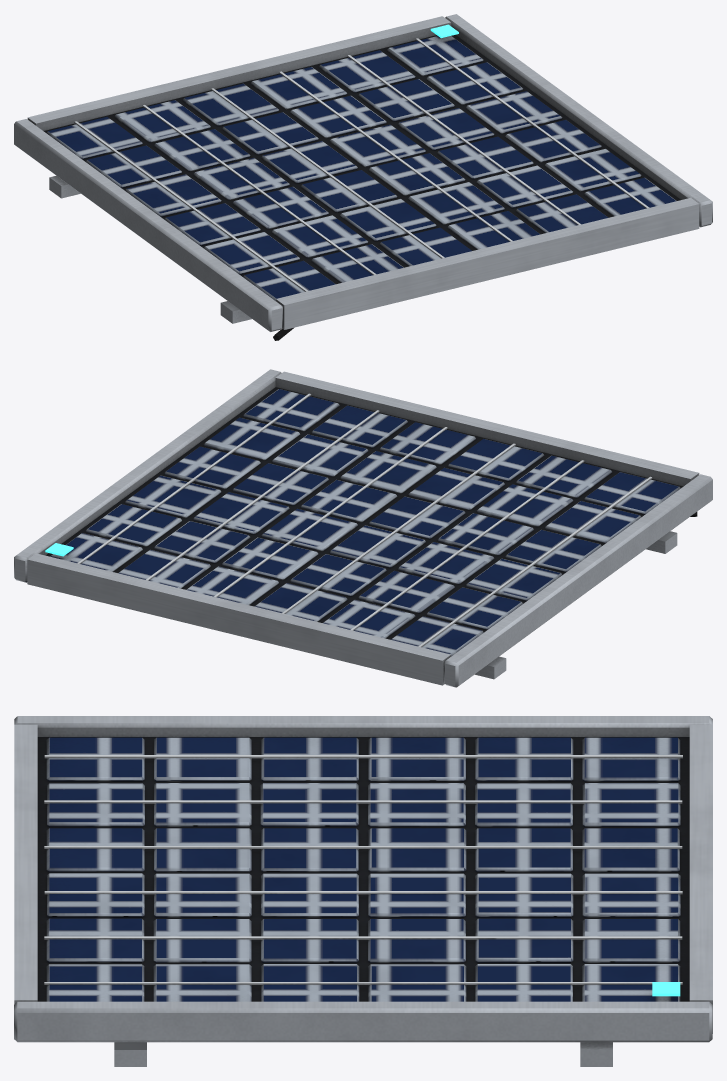
The model's file is panel_solar_techo.fbx.
3 renders of one model, top to bottom at view 1: azimuth 30°, elevation 25°; view 2: azimuth 150°, elevation 25°; view 3: azimuth 270°, elevation 25°, orthographic. The views are drawn at different scales.
Parts seen in each view (by area): view 1: panel_solar_techo; view 2: panel_solar_techo; view 3: panel_solar_techo.
Part boxes in pixels (x1,y1,x2,y2): panel_solar_techo: (14, 14, 712, 340); panel_solar_techo: (14, 369, 712, 687); panel_solar_techo: (14, 716, 712, 1066).
Size of the model in its own units: 3 by 0.2818 by 3.
2 materials, 2 textured.
